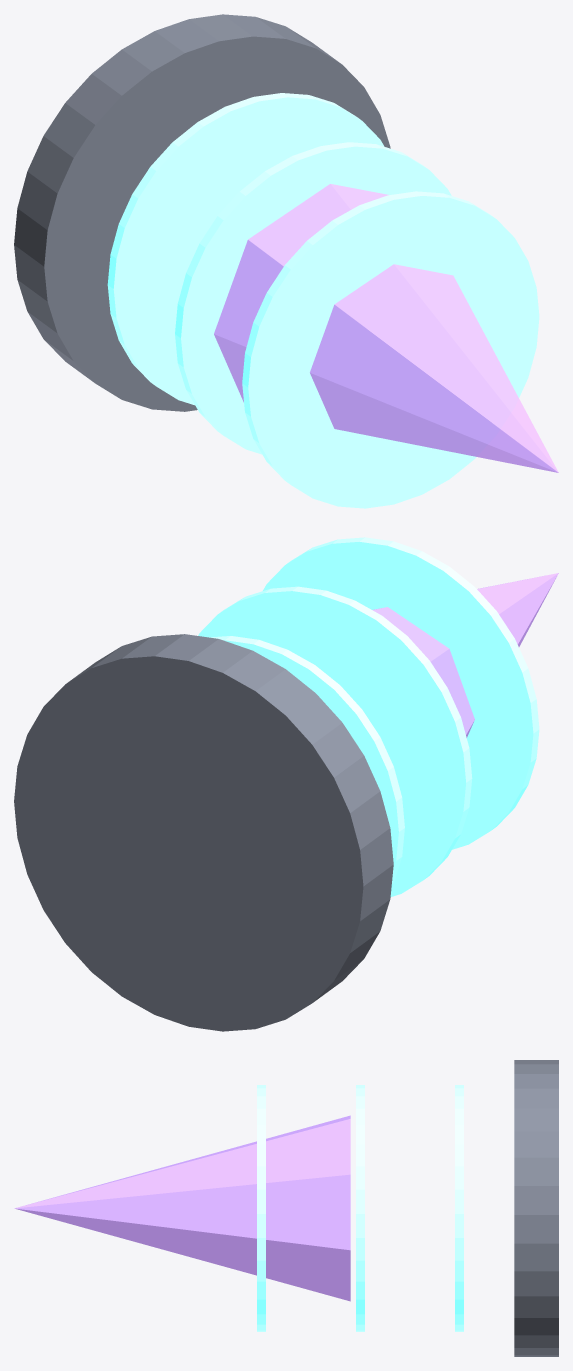
The model's file is 23_Meteorite_Relic.glb.
The picture shows the model from 3 angles, top to bottom: view 1: azimuth 30°, elevation 25°; view 2: azimuth 150°, elevation 25°; view 3: azimuth 270°, elevation 25°; orthographic projection. The views are drawn at different scales.
Parts seen in each view (by area): view 1: 23_Meteorite_Relic_00, 23_Meteorite_Relic_04, 23_Meteorite_Relic_01, 23_Meteorite_Relic_02, 23_Meteorite_Relic_03; view 2: 23_Meteorite_Relic_00, 23_Meteorite_Relic_03, 23_Meteorite_Relic_04, 23_Meteorite_Relic_02, 23_Meteorite_Relic_01; view 3: 23_Meteorite_Relic_01, 23_Meteorite_Relic_00, 23_Meteorite_Relic_02, 23_Meteorite_Relic_03, 23_Meteorite_Relic_04.
Part boxes in pixels (box(x1,y1,x2,y2)): 23_Meteorite_Relic_00: box(14, 14, 390, 411); 23_Meteorite_Relic_04: box(242, 191, 539, 508); 23_Meteorite_Relic_01: box(214, 184, 558, 472); 23_Meteorite_Relic_02: box(107, 93, 384, 405); 23_Meteorite_Relic_03: box(175, 142, 451, 454); 23_Meteorite_Relic_00: box(14, 634, 393, 1031); 23_Meteorite_Relic_03: box(198, 586, 472, 896); 23_Meteorite_Relic_04: box(263, 537, 539, 849); 23_Meteorite_Relic_02: box(209, 636, 404, 886); 23_Meteorite_Relic_01: box(372, 573, 558, 737); 23_Meteorite_Relic_01: box(14, 1115, 350, 1301); 23_Meteorite_Relic_00: box(514, 1060, 558, 1356); 23_Meteorite_Relic_02: box(455, 1085, 463, 1331); 23_Meteorite_Relic_03: box(356, 1085, 364, 1331); 23_Meteorite_Relic_04: box(257, 1085, 265, 1331).
Bounding box in the file's own units: 3 × 3 × 5.5.
